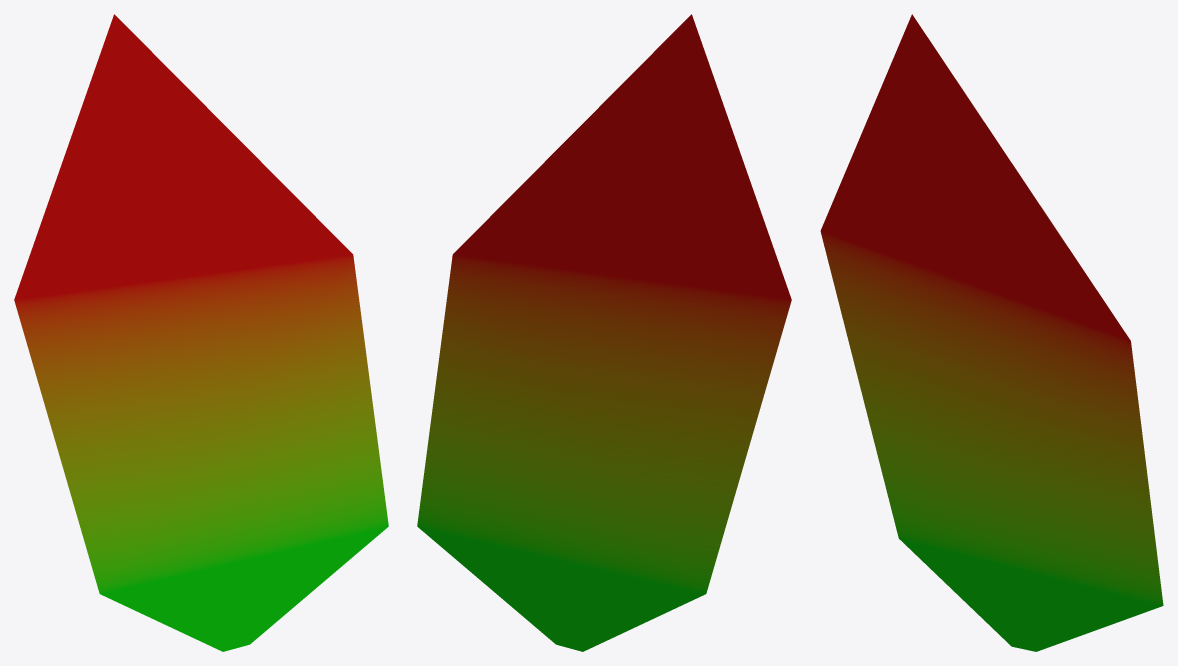
File: Var6_LOD4.fbx
3 views of the same model, side by side, from view 1: azimuth 30°, elevation 25°; view 2: azimuth 150°, elevation 25°; view 3: azimuth 330°, elevation 25° (orthographic). The views are drawn at different scales.
Visible parts, largest first — view 1: _075b_Var6_LOD4; view 2: _075b_Var6_LOD4; view 3: _075b_Var6_LOD4.
Boxes of the visible parts, bbox=[...] form: _075b_Var6_LOD4: bbox=[14, 14, 388, 651]; _075b_Var6_LOD4: bbox=[417, 14, 791, 651]; _075b_Var6_LOD4: bbox=[820, 14, 1163, 651].
Size of the model in its own units: 15.71 by 26.62 by 9.54e-07.
